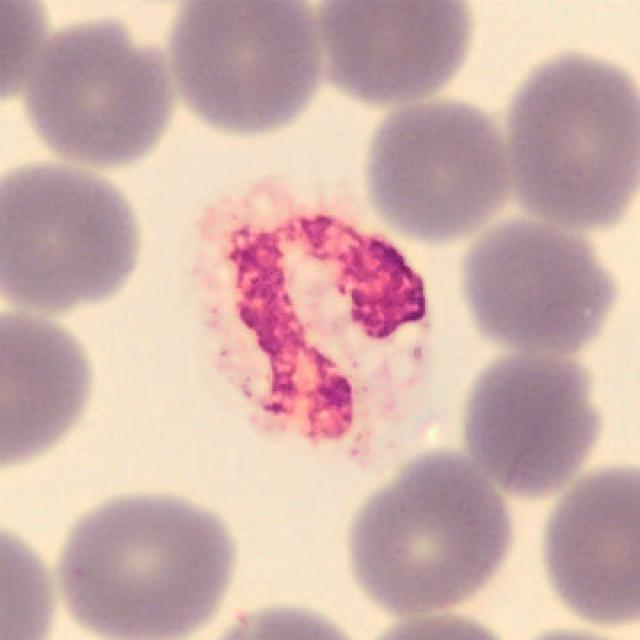Neutrofilo segmentado: (188, 176, 460, 473)
